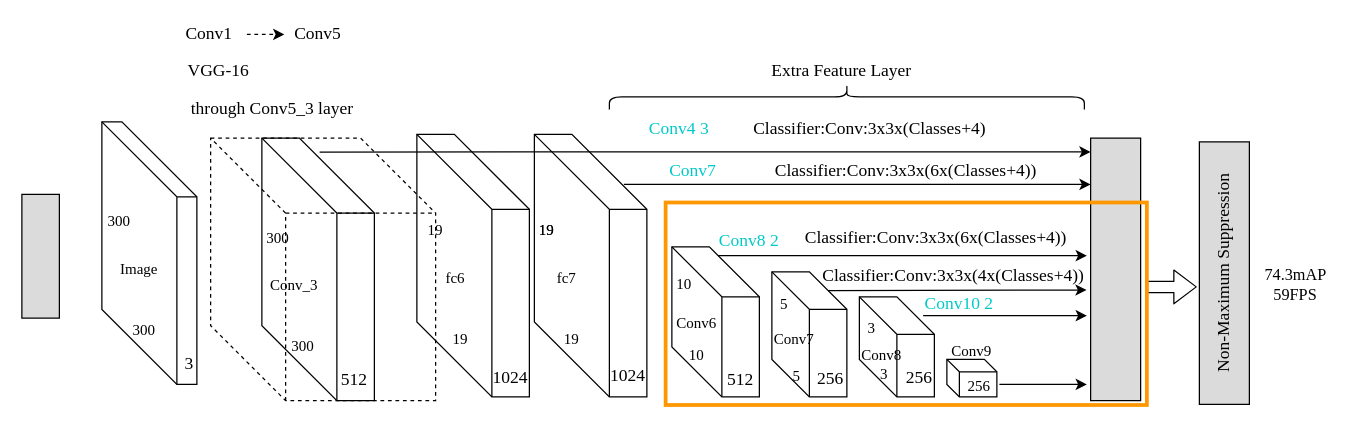
Image size: 1348x428. Some labels were removed from this diagram. Here are the shapes that lost their labels. From the top down, the centre of each, then its label:
At [40,255]: "SSD".
At [1115,269]: "Detection：8732 per Class".
